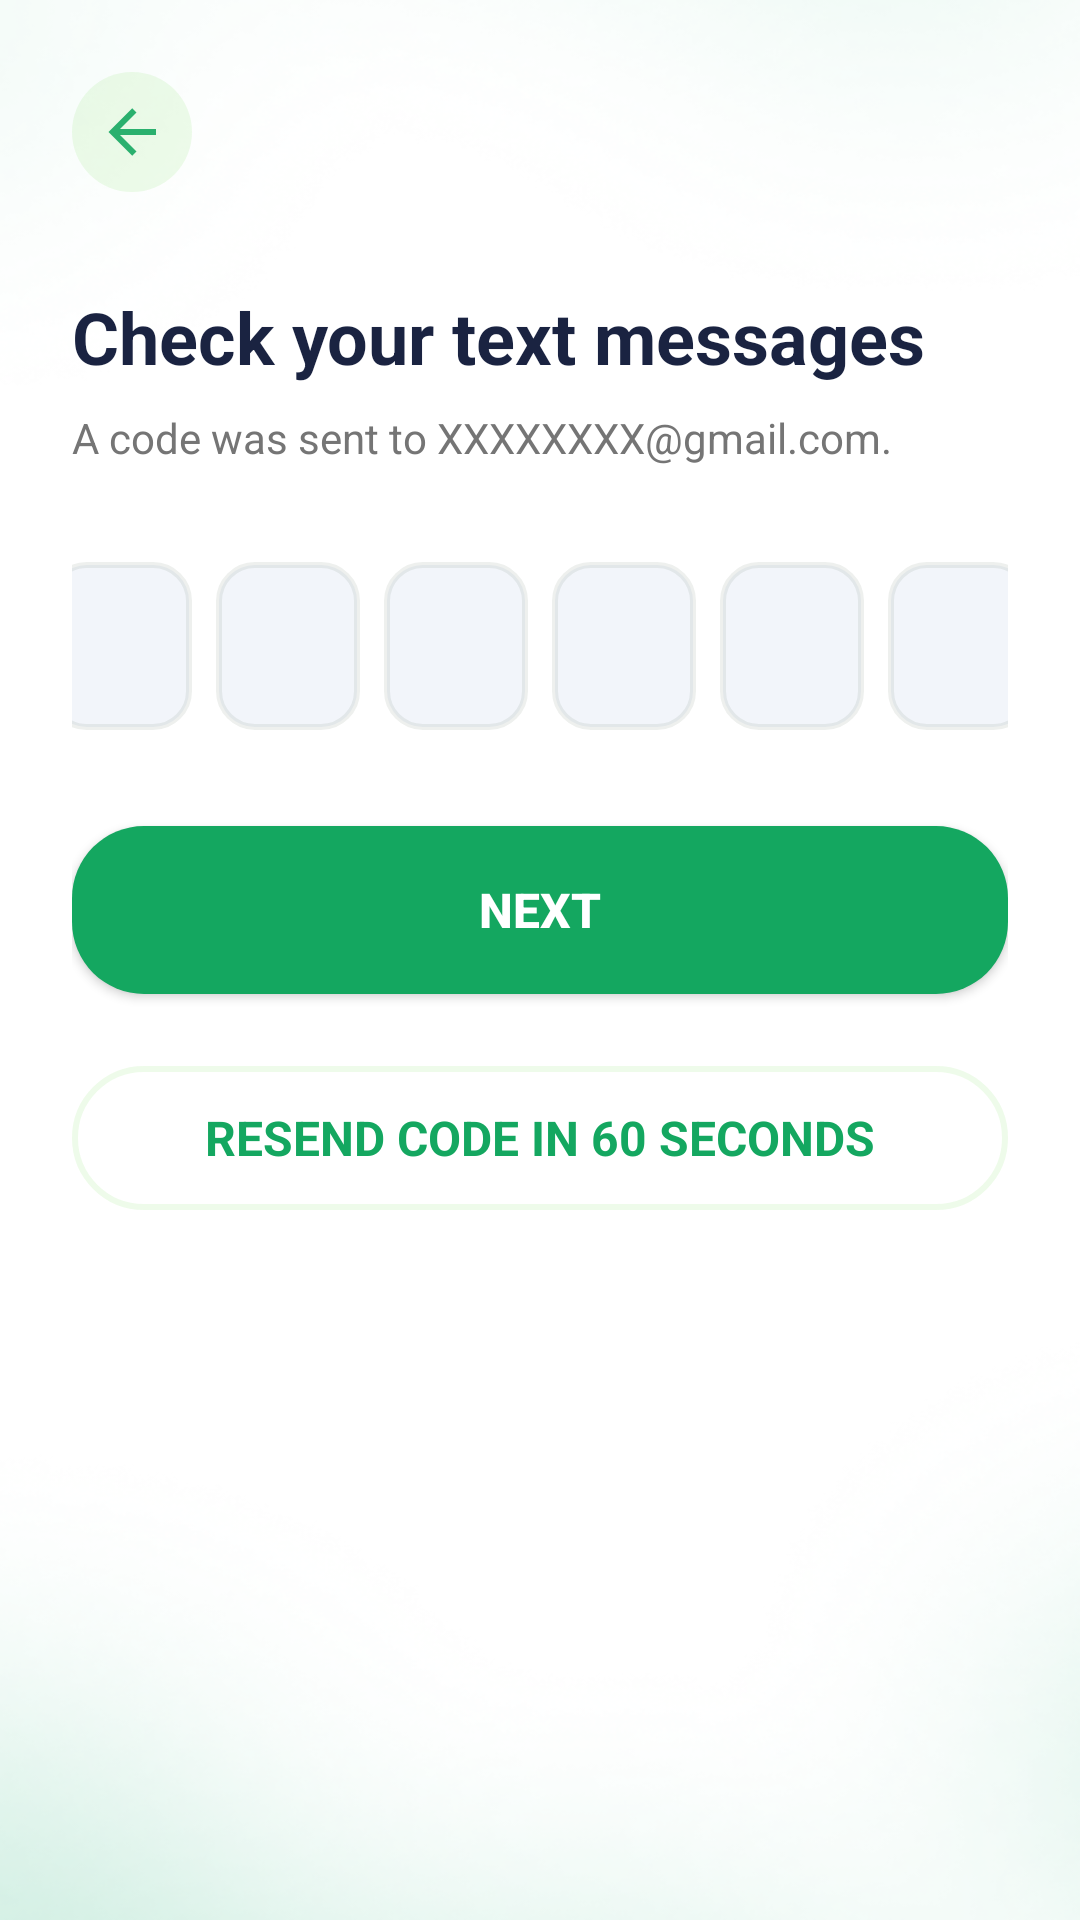

Icon click points for this 1080 × 1920 phone screenshot, format (x=x, y=y):
back arrow: (x=132, y=132)
